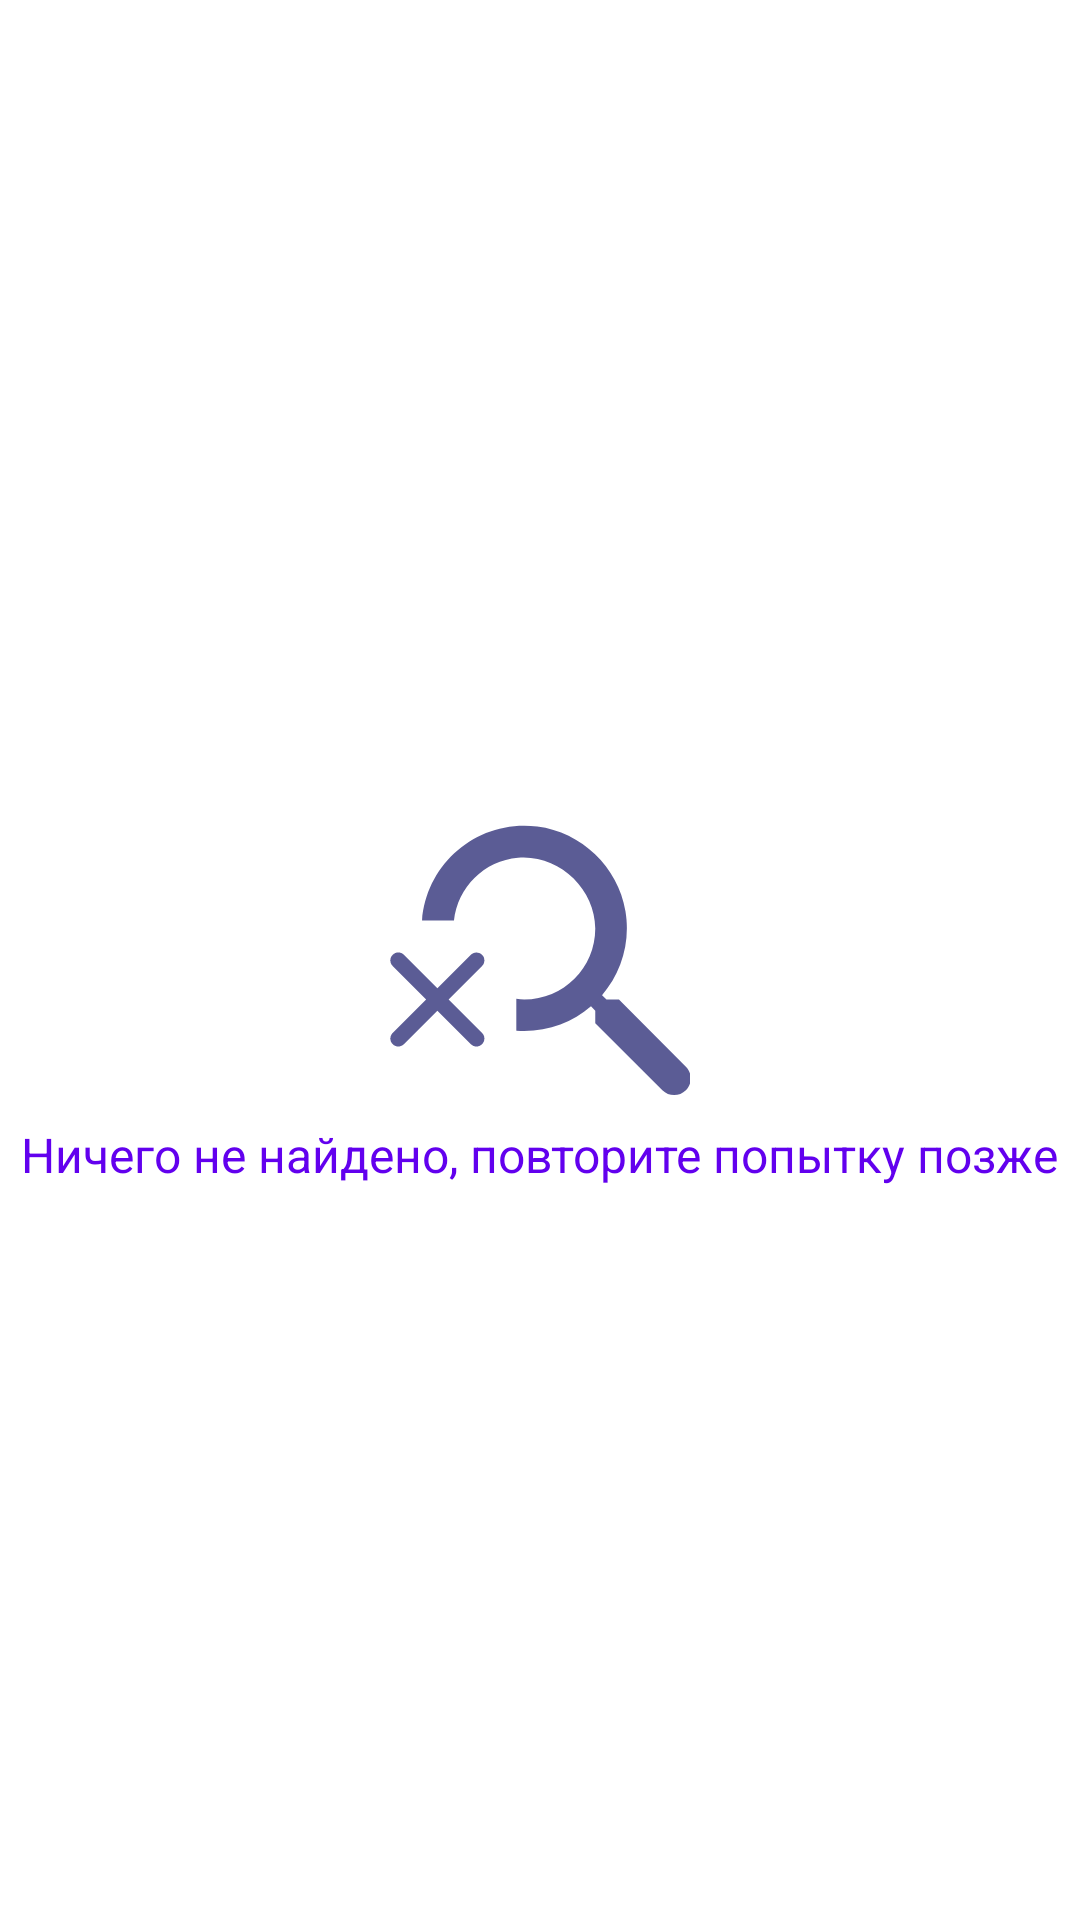

Icon click points for this 1080x1920 phone screenshot, format (x=x, y=y):
empty: (x=540, y=960)
